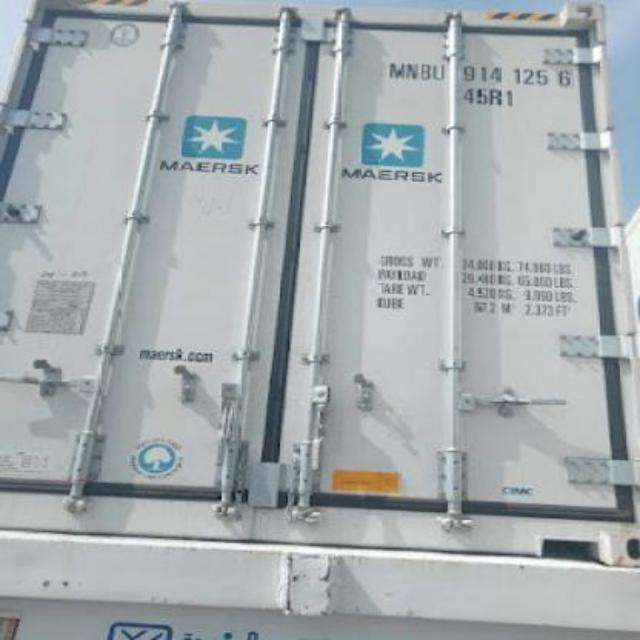1: (510, 64, 526, 88), (480, 64, 488, 84)
2: (520, 64, 536, 86)
4: (488, 64, 506, 84)
5: (536, 66, 550, 88)
6: (554, 68, 576, 88)
9: (462, 65, 478, 81)
B: (420, 64, 432, 82)
M: (384, 60, 406, 80)
N: (406, 62, 419, 80)
U: (432, 62, 446, 82)
